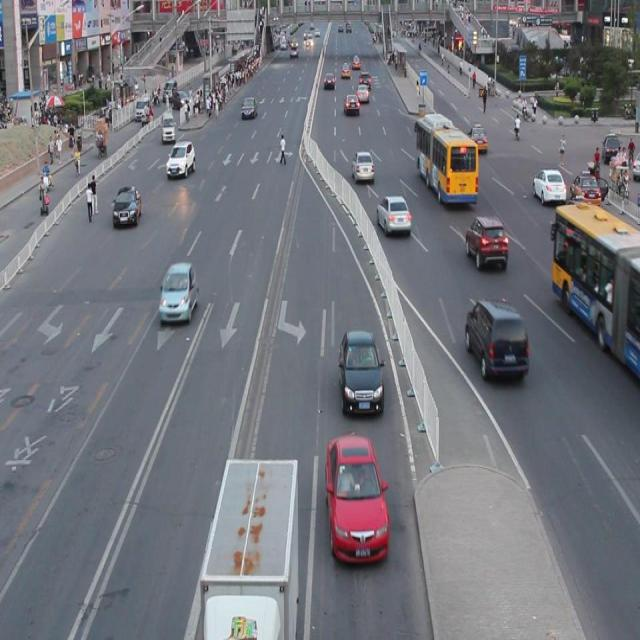bus: (200, 455, 299, 640)
car: (326, 434, 388, 562), (463, 295, 528, 379), (339, 328, 383, 416), (157, 261, 199, 321), (465, 214, 507, 268), (376, 194, 410, 233), (112, 186, 143, 228), (532, 168, 565, 203), (570, 172, 600, 206)
van: (551, 203, 640, 374), (414, 117, 477, 203)
